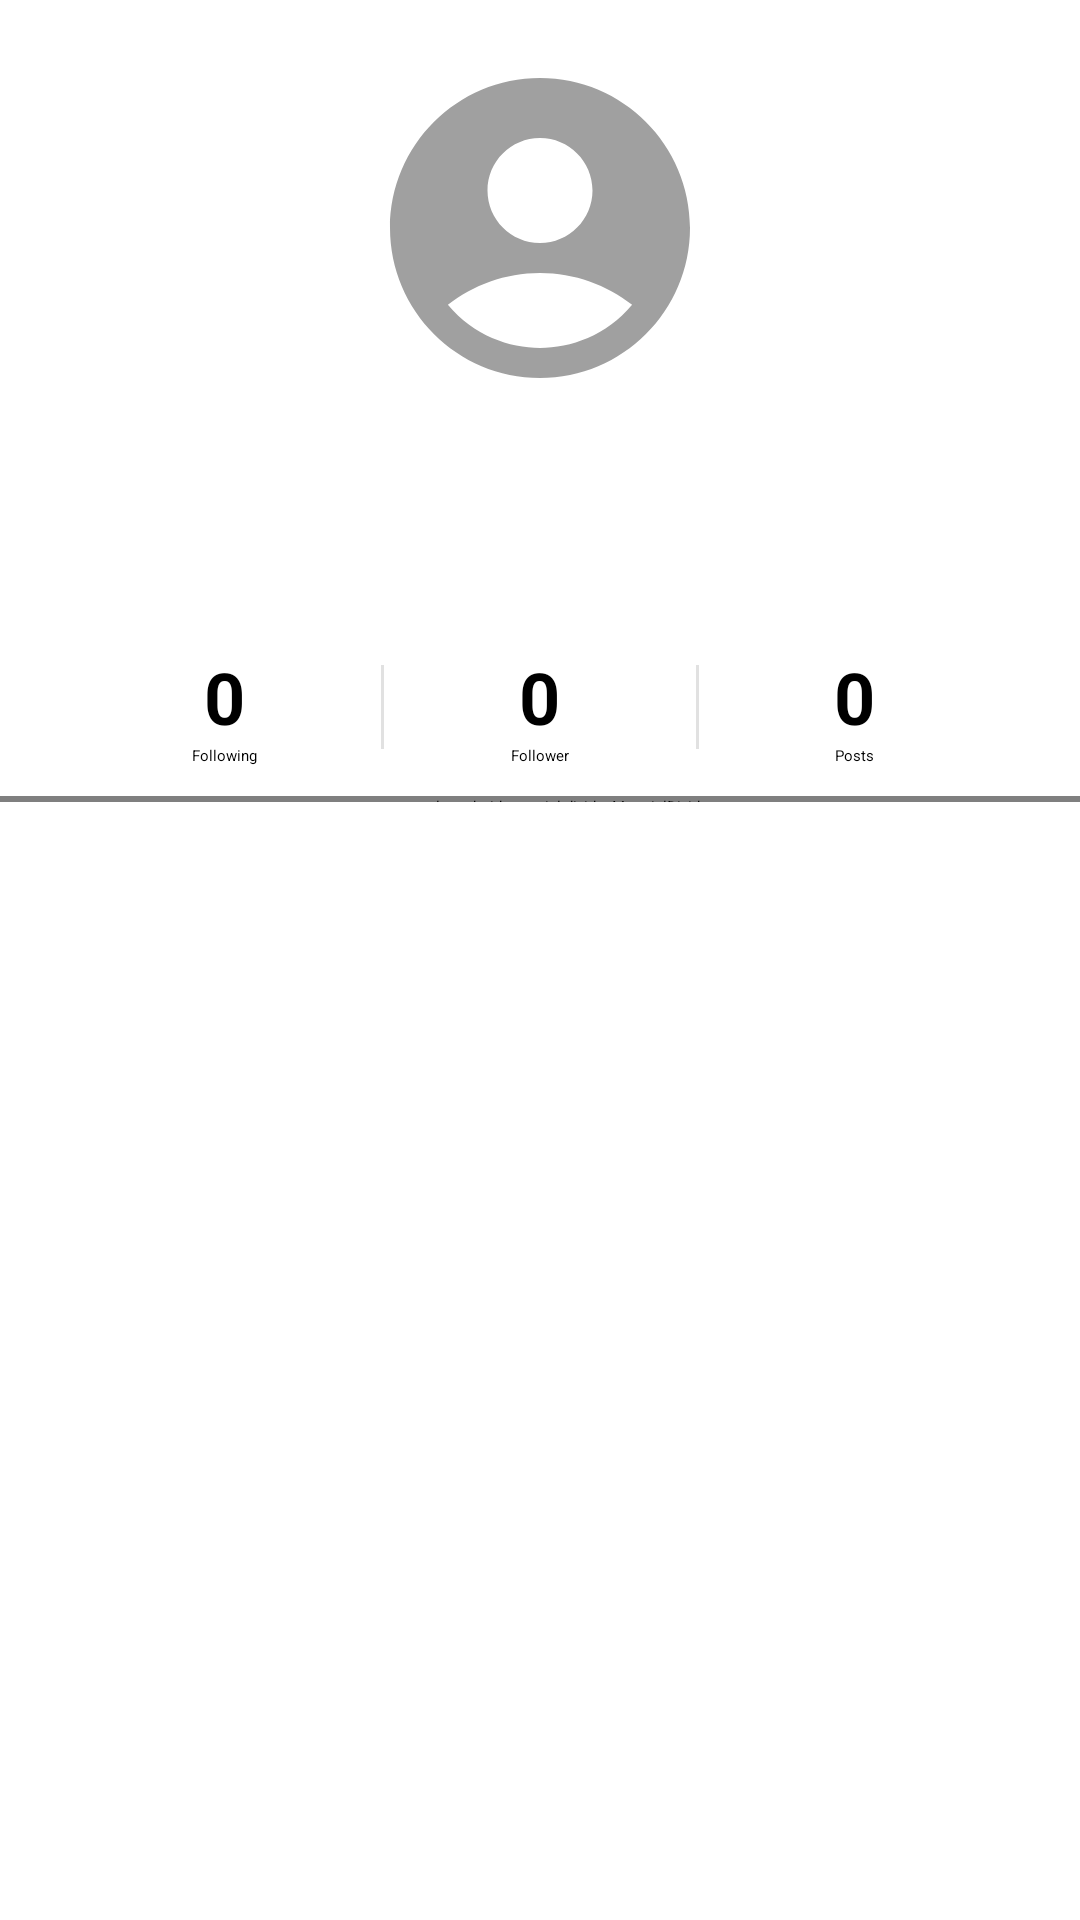

Icons on this 1080*1920 Android screen, each with its box as [x1, y1, x2, y2]:
profile circle: [390, 78, 690, 378]
